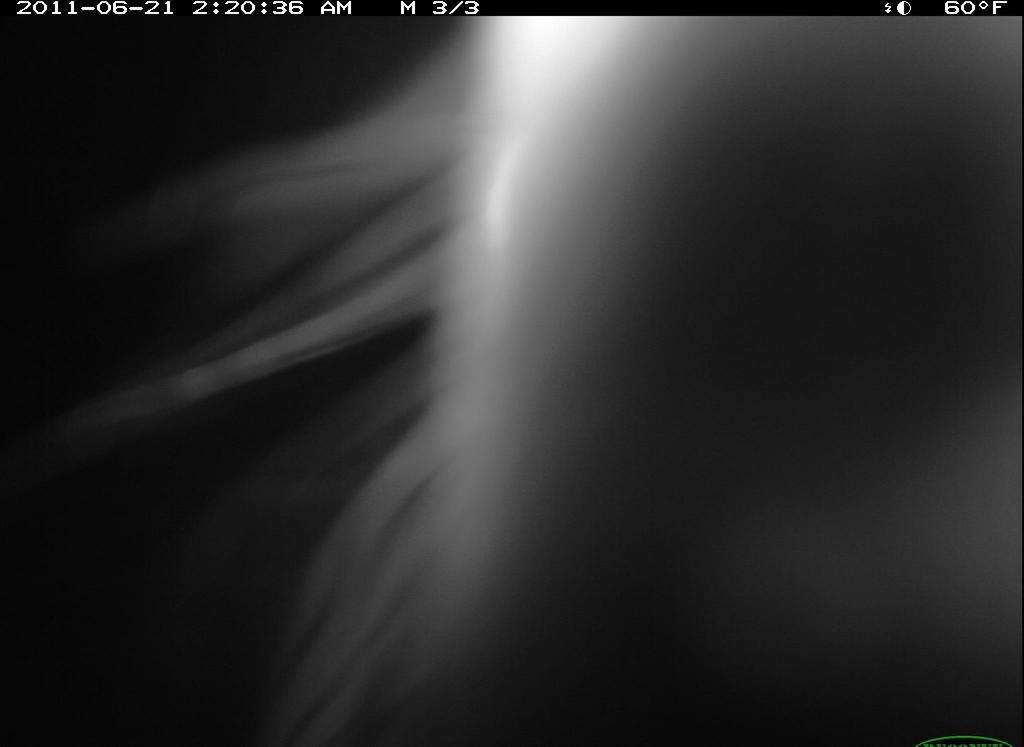raccoon: (57, 22, 1022, 745)
